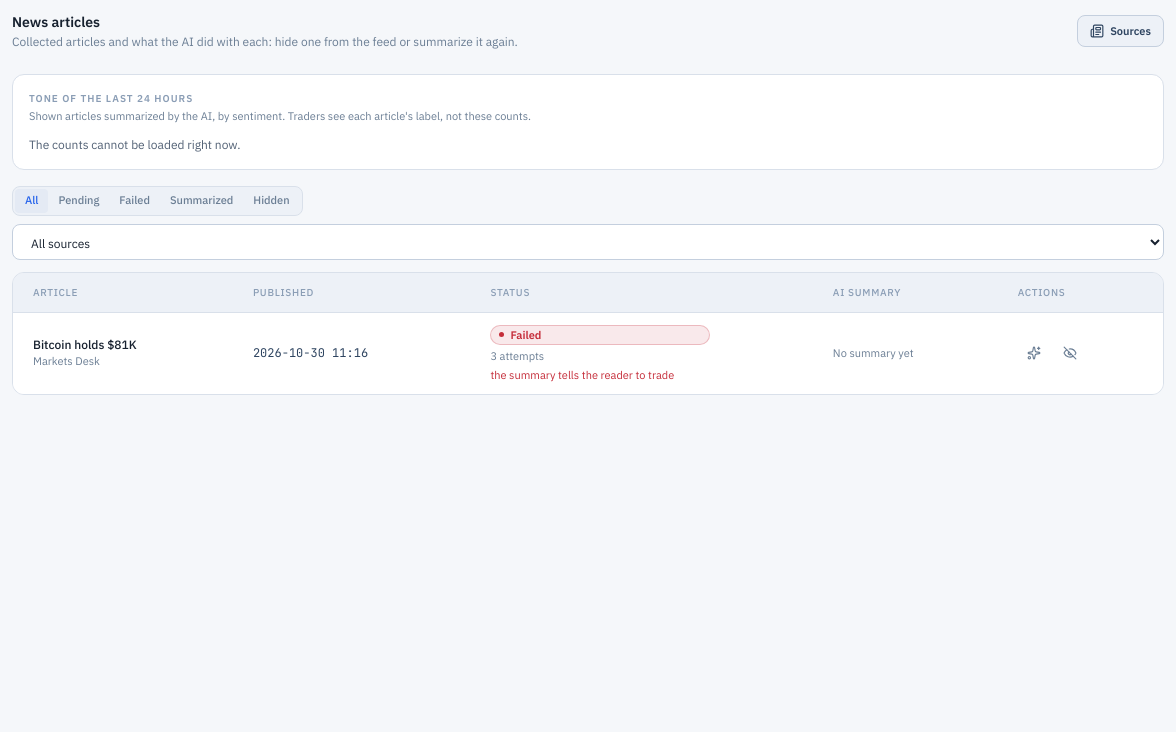
Test: news articles console (T-080b, D-124) › says so when the AI service cannot summarize now
Click the button named "Summarize Bitcoin holds $81K again" at (1034, 354), box [1018,338,1050,370]
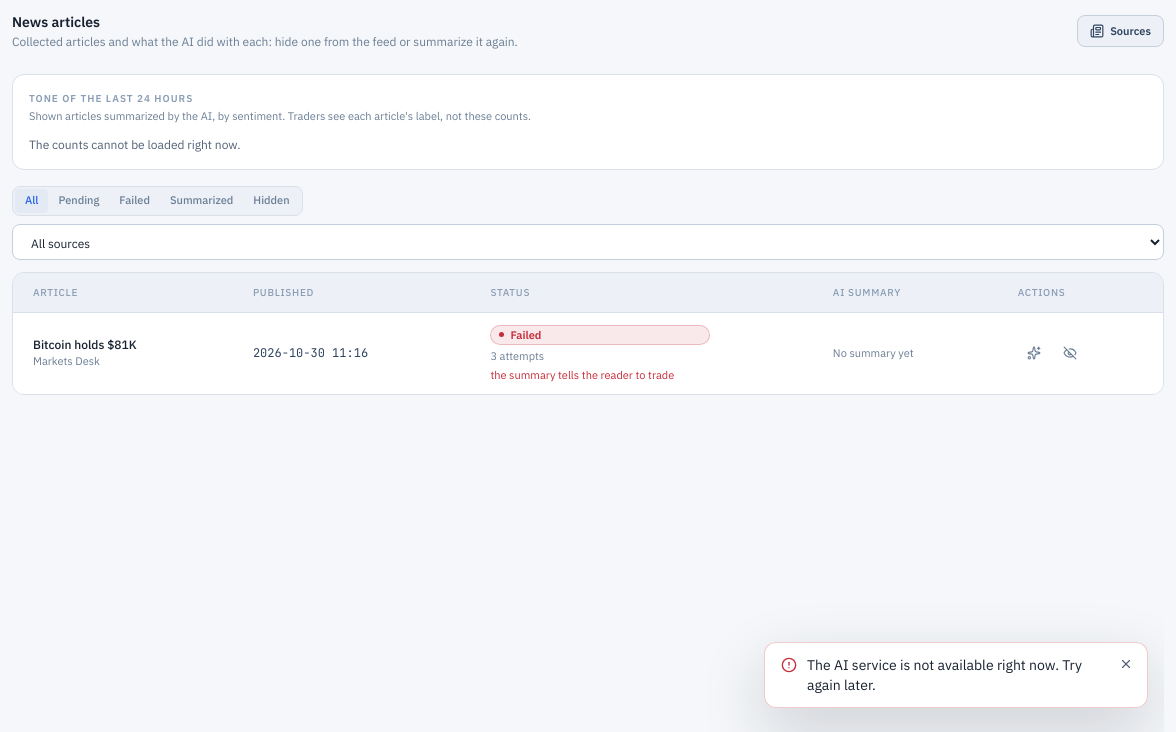
Expected: the text "The AI service is not available right now. Try again later." is shown, [807,655,1107,695]
